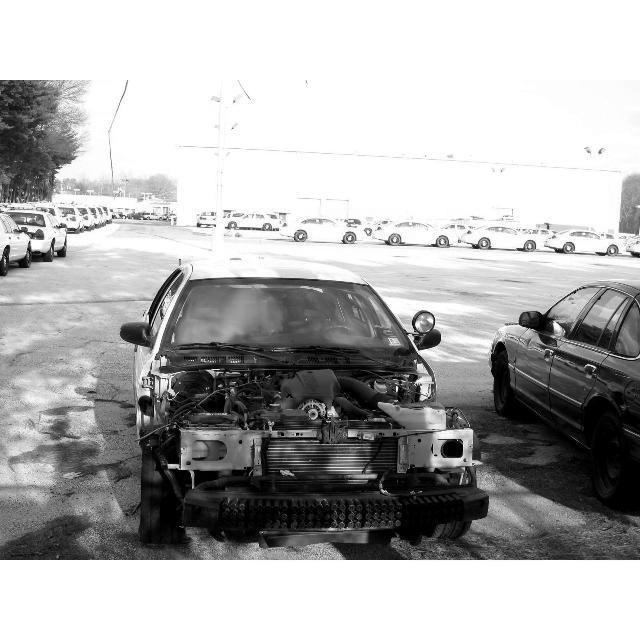bonnet-dent: (171, 349, 421, 407)
front-bumper-dent: (232, 421, 403, 490)
